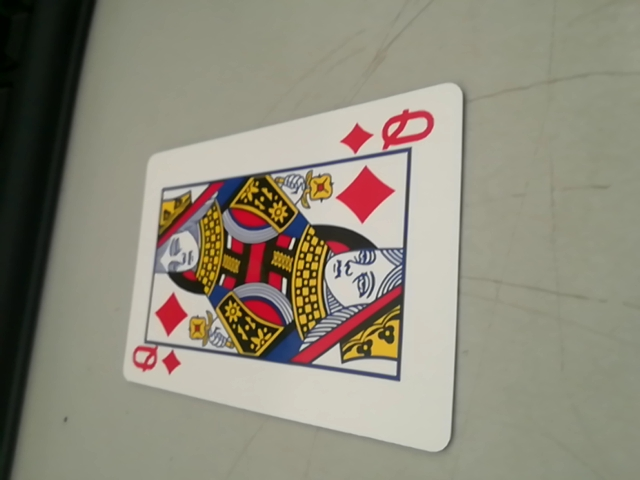fk q: (341, 104, 441, 159), (126, 340, 187, 382)
